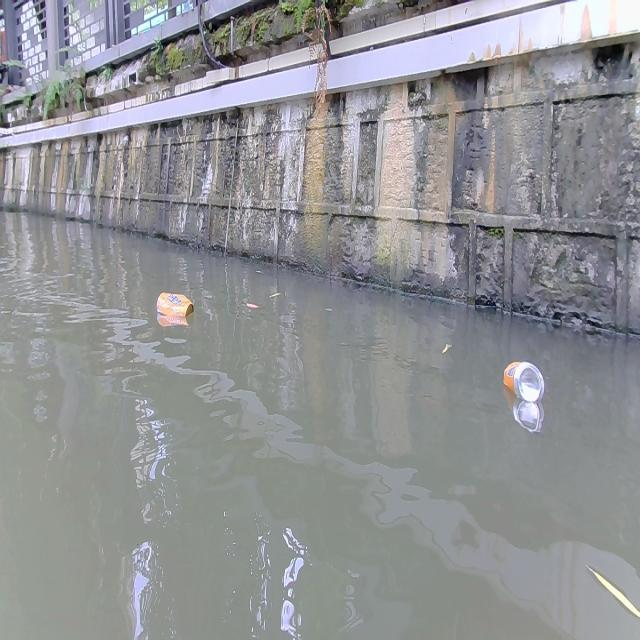bottle: (503, 360, 545, 402), (156, 290, 193, 316)
